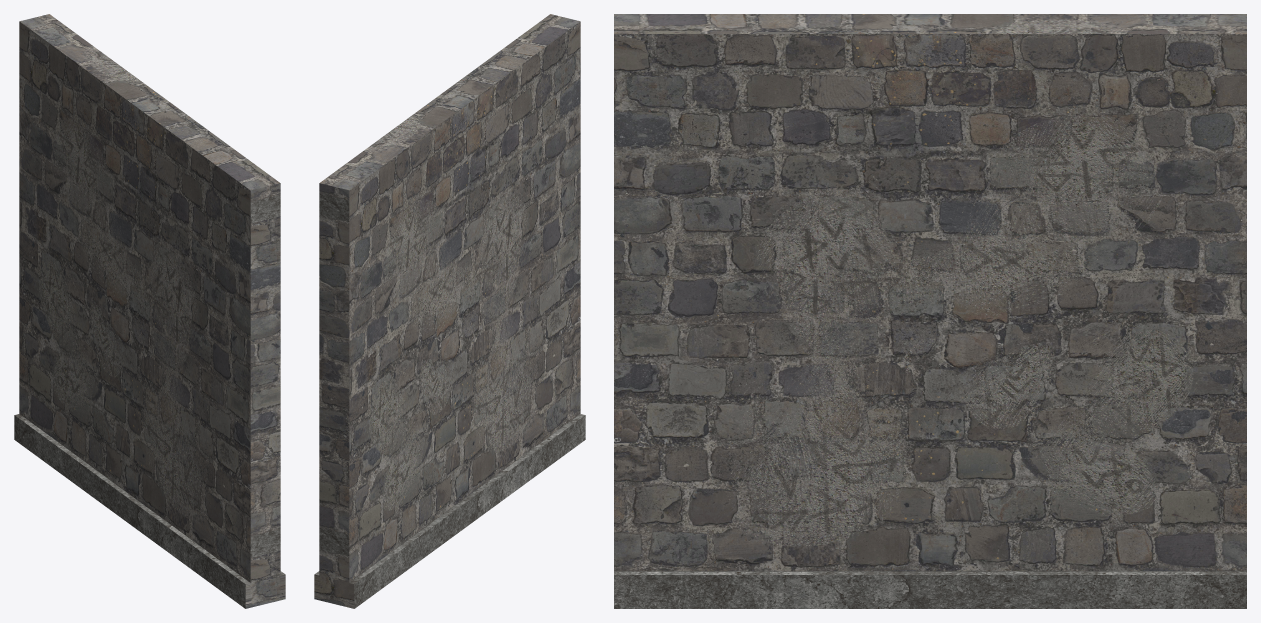
Rendered from Wall_4.fbx.
The picture shows the model from 3 angles, left to right: view 1: azimuth 30°, elevation 25°; view 2: azimuth 150°, elevation 25°; view 3: azimuth 270°, elevation 25°; orthographic projection. The views are drawn at different scales.
Parts seen in each view (by area): view 1: wall.002; view 2: wall.002; view 3: wall.002.
Boxes of the visible parts, x1,y1,x2,y2 form: wall.002: [14, 14, 285, 608]; wall.002: [314, 14, 585, 608]; wall.002: [614, 14, 1246, 608].
Size of the model in its own units: 40 by 399 by 400.
1 material, 1 textured.
